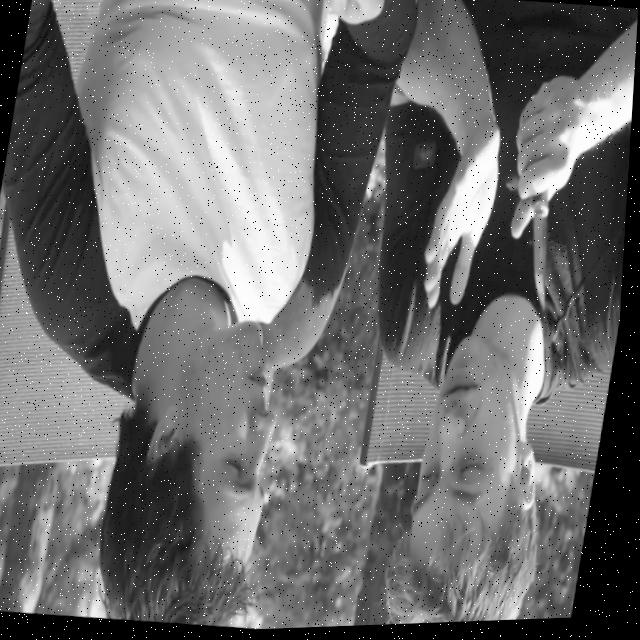knife: (516, 193, 569, 319)
